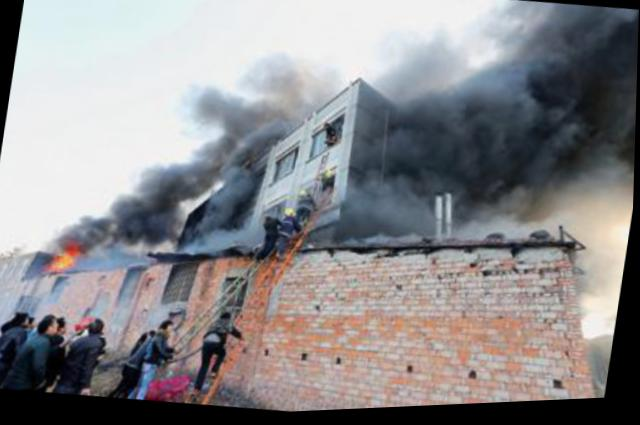fire: (53, 243, 85, 274)
